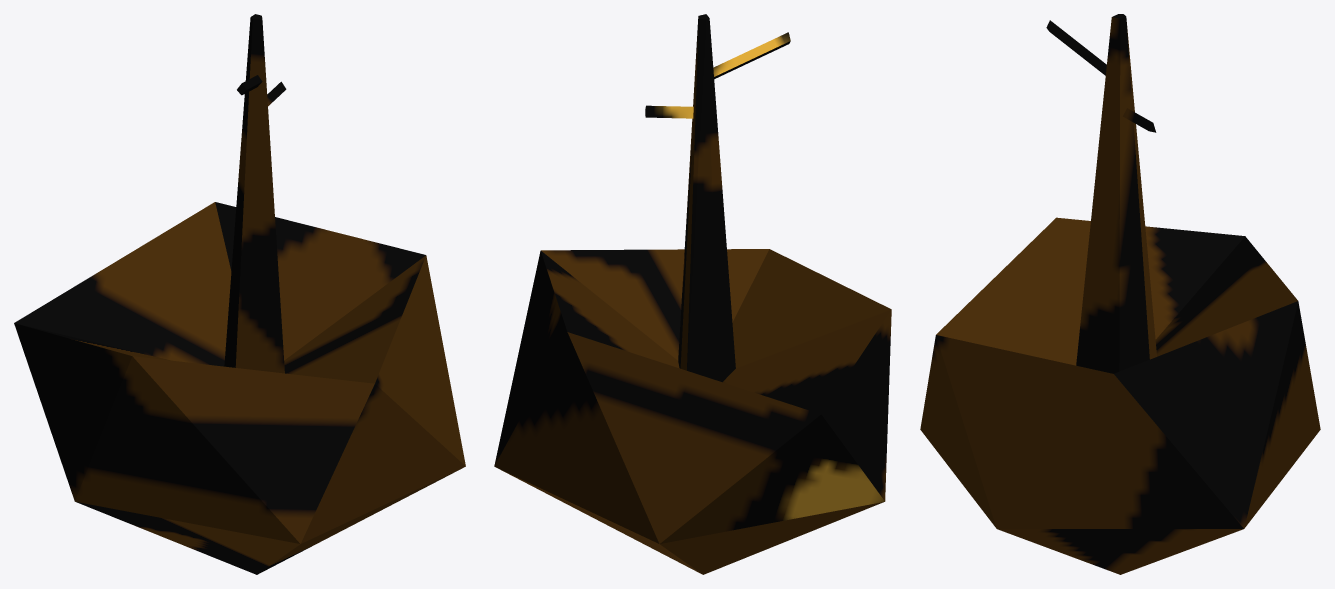
File: plant_1.obj
3 views of the same model, side by side, from view 1: azimuth 30°, elevation 25°; view 2: azimuth 150°, elevation 25°; view 3: azimuth 270°, elevation 25° (orthographic).
Parts seen in each view (by area): view 1: Icosphere; view 2: Icosphere; view 3: Icosphere.
Part boxes in pixels (box(x1,y1,x2,y2)): Icosphere: box(14, 14, 465, 574); Icosphere: box(494, 14, 891, 574); Icosphere: box(920, 14, 1320, 574).
Size of the model in its own units: 0.342 by 0.5243 by 0.3403.
